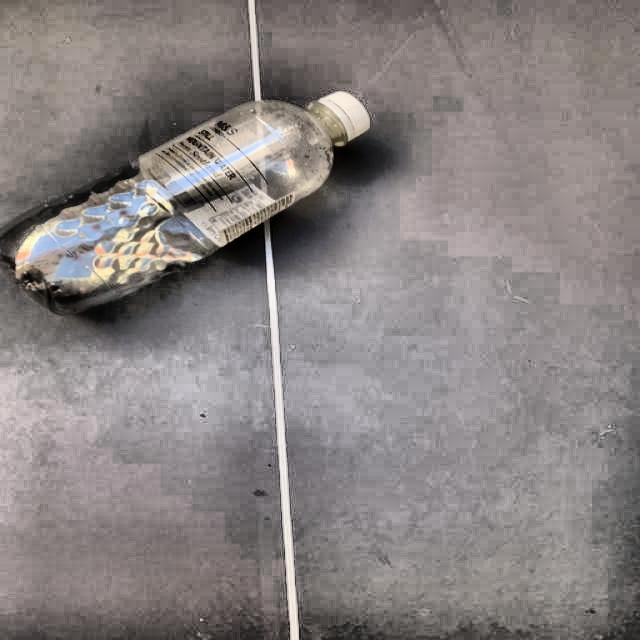plastic bottle: (0, 91, 370, 314)
